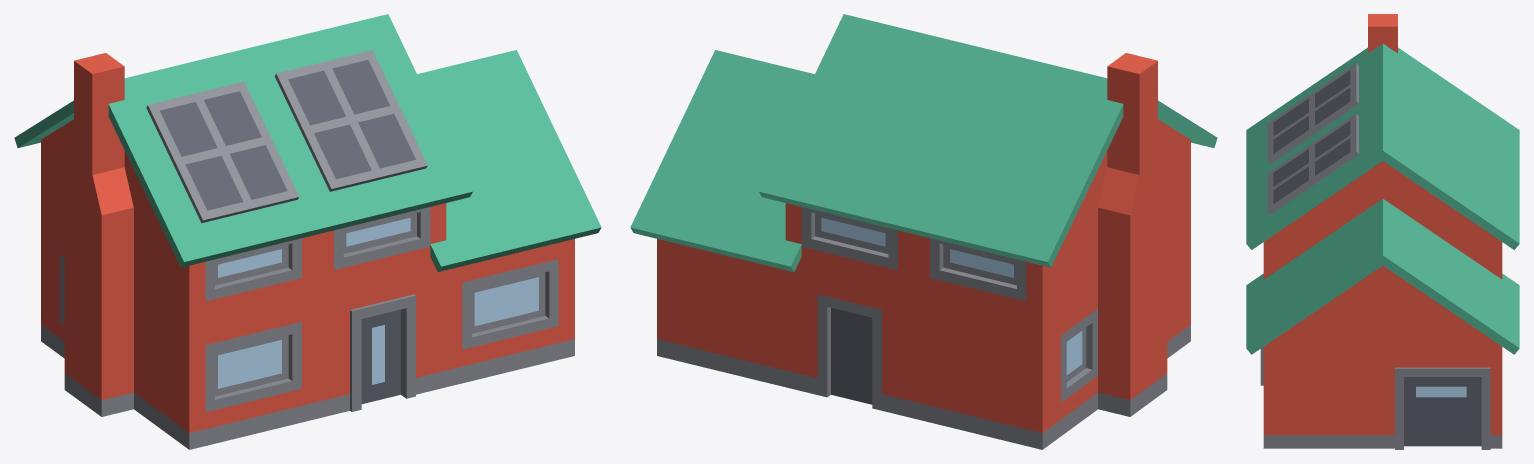
The model's file is House Type 13.glb.
The picture shows the model from 3 angles, left to right: view 1: azimuth 30°, elevation 25°; view 2: azimuth 150°, elevation 25°; view 3: azimuth 270°, elevation 25°; orthographic projection. The views are drawn at different scales.
Visible parts, largest first — view 1: house_type13; view 2: house_type13; view 3: house_type13.
Boxes of the visible parts, x1,y1,x2,y2 form: house_type13: (14, 14, 601, 449); house_type13: (630, 14, 1217, 449); house_type13: (1246, 14, 1519, 449).
Size of the model in its own units: 1.35 by 1 by 0.916.
